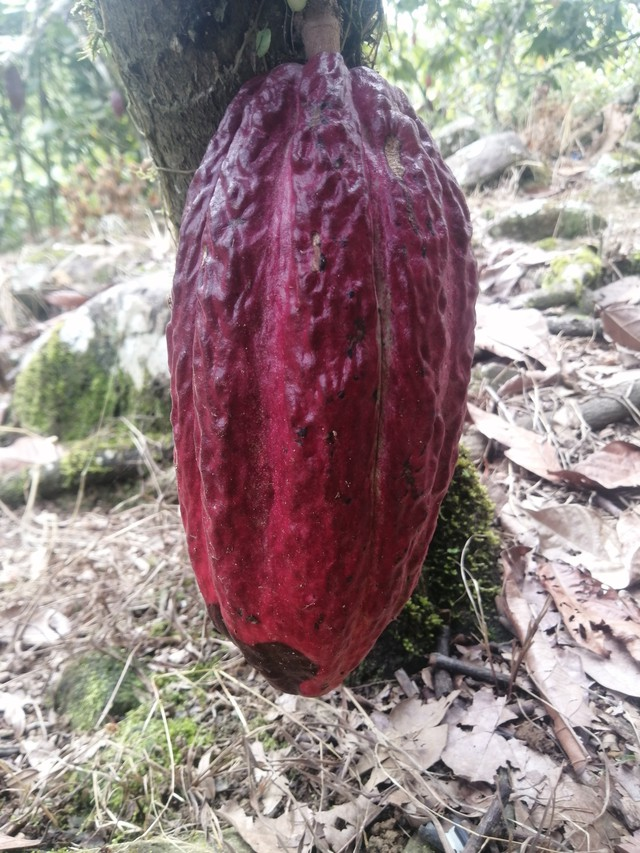phytophthora palmivora: (143, 43, 490, 703)
